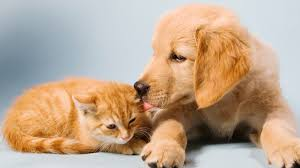cat: (5, 73, 141, 163)
dog: (134, 2, 299, 168)
